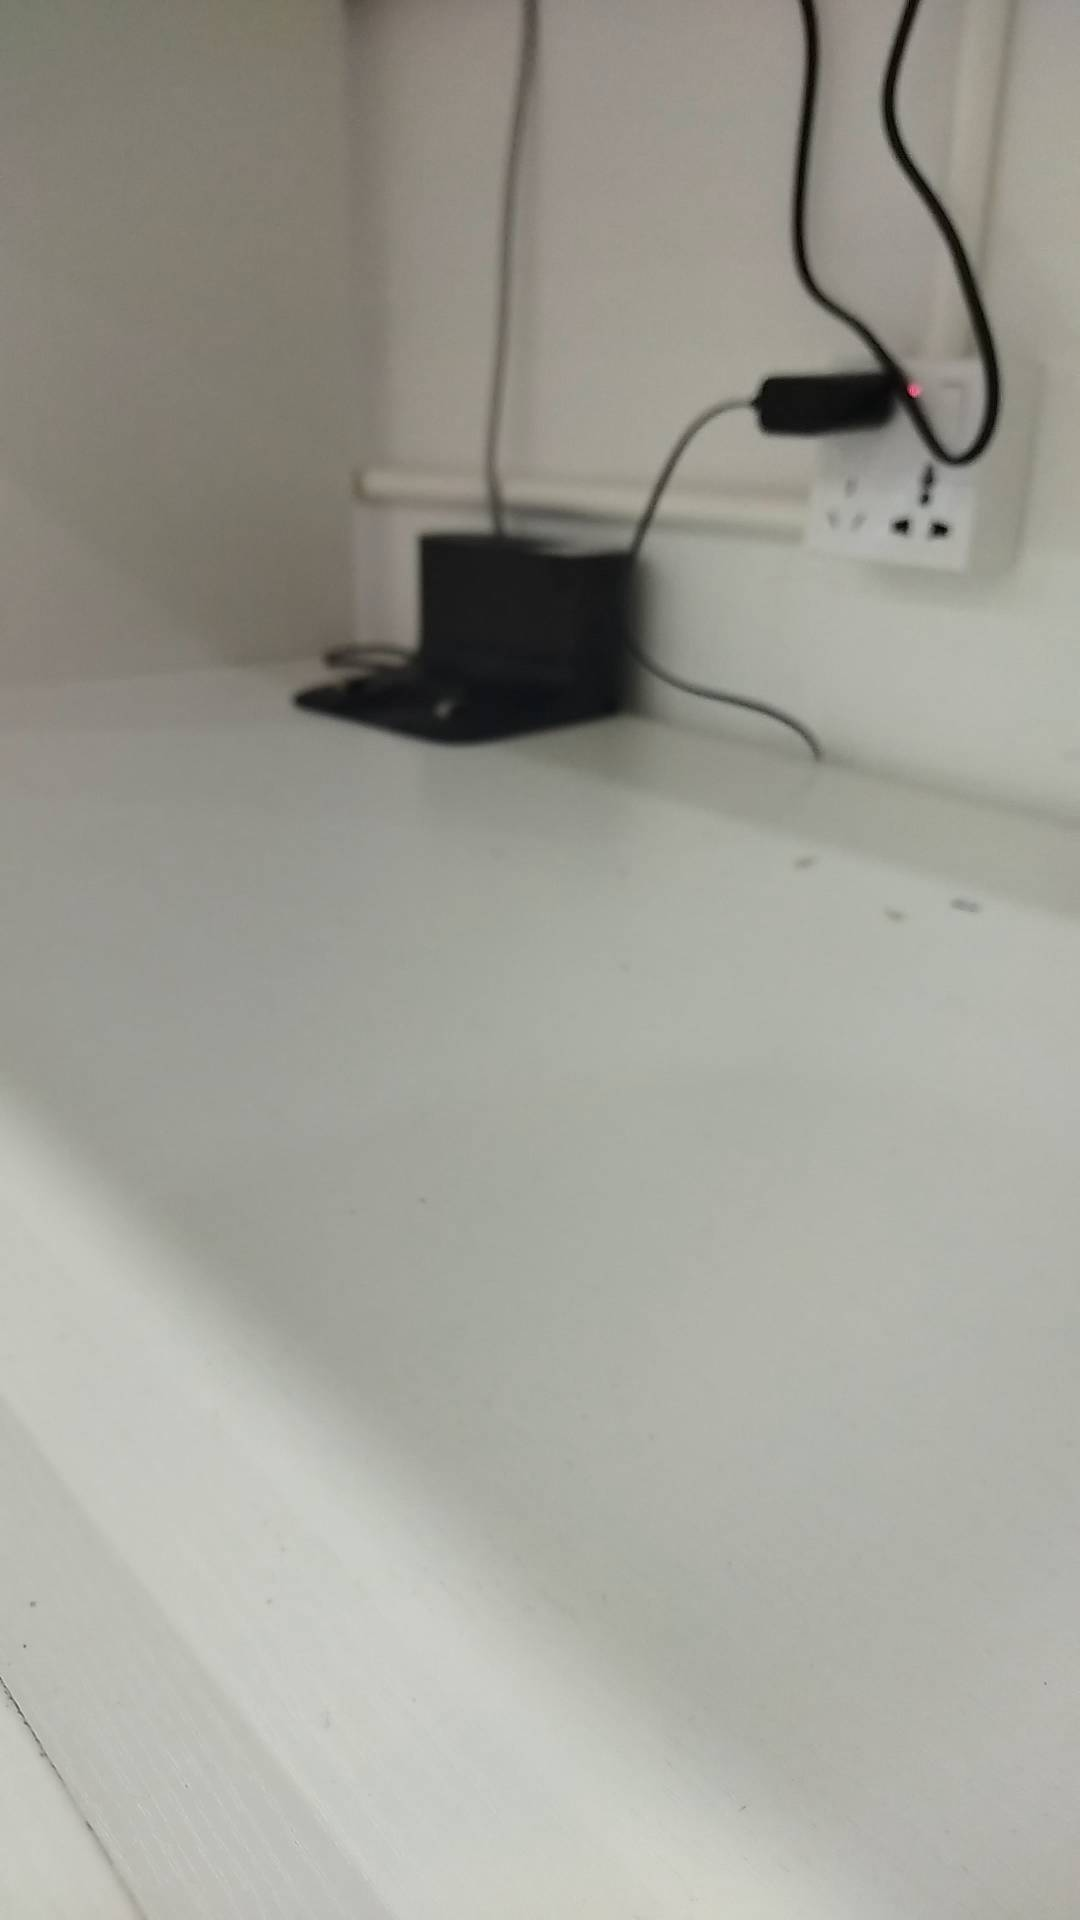recharge seat: (293, 531, 640, 746)
